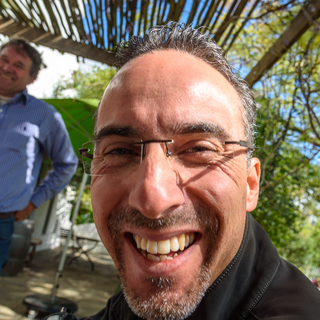eye: (102, 140, 145, 163), (175, 140, 220, 158)
